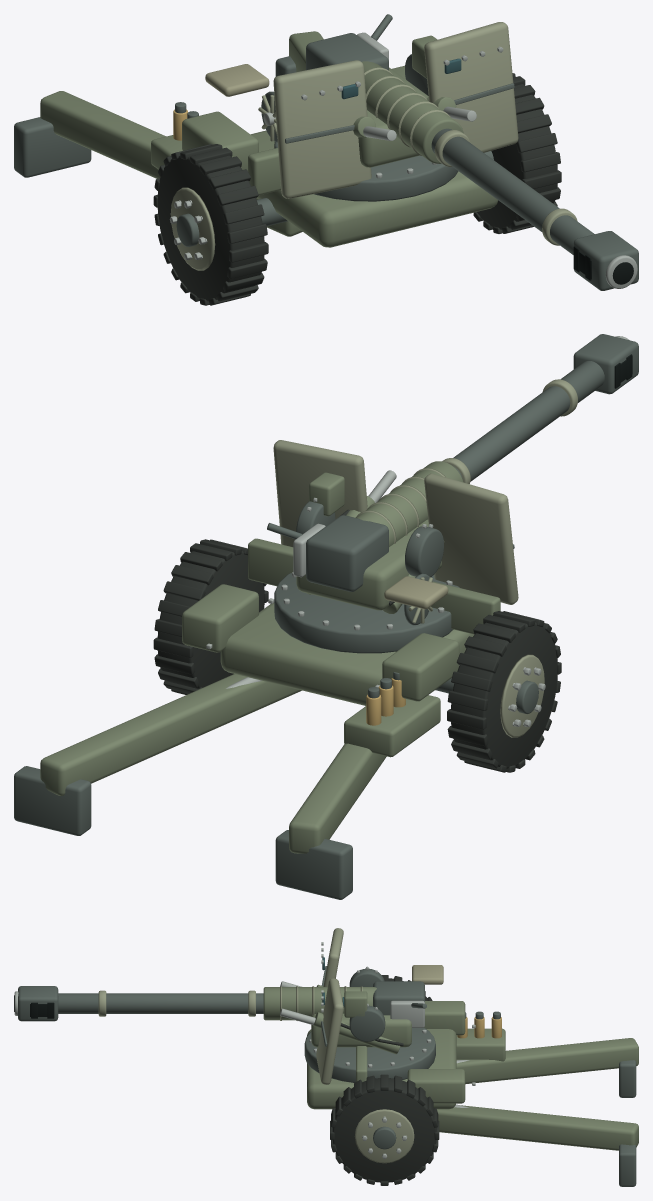
File: kestrel.glb
3 renders of one model, top to bottom at view 1: azimuth 30°, elevation 25°; view 2: azimuth 150°, elevation 25°; view 3: azimuth 270°, elevation 25°, orthographic. The views are drawn at different scales.
Parts seen in each view (by area): view 1: Kestrel_Armor_edge, Kestrel_Field_olive, Kestrel_Rubber, Kestrel_Gun_steel, RecoilAssembly_Gun_steel, Barrel sleeve, Turret_Field_olive, BarrelPivot_Gun_steel, RecoilAssembly_Armor_edge, Gunner seat, Turret_Recoil_steel, Kestrel_Recoil_steel (+4 smaller); view 2: Kestrel_Field_olive, Kestrel_Rubber, Kestrel_Gun_steel, Kestrel_Armor_edge, RecoilAssembly_Gun_steel, BarrelPivot_Gun_steel, Turret_Field_olive, Barrel sleeve, Turret_Gun_steel, RecoilAssembly_Armor_edge, Gunner seat, Kestrel_Brass (+1 smaller); view 3: Kestrel_Field_olive, Kestrel_Rubber, Kestrel_Gun_steel, RecoilAssembly_Gun_steel, Kestrel_Armor_edge, Turret_Field_olive, Barrel sleeve, Turret_Gun_steel, BarrelPivot_Gun_steel, BreechBlock, RecoilAssembly_Armor_edge, Gunner seat (+4 smaller).
Boxes of the visible parts, x1=… form: Kestrel_Armor_edge: x1=170, y1=22, x2=518, y2=270; Kestrel_Field_olive: x1=40, y1=31, x2=498, y2=247; Kestrel_Rubber: x1=153, y1=73, x2=561, y2=305; Kestrel_Gun_steel: x1=14, y1=56, x2=514, y2=246; RecoilAssembly_Gun_steel: x1=431, y1=128, x2=638, y2=290; Barrel sleeve: x1=362, y1=61, x2=463, y2=163; Turret_Field_olive: x1=353, y1=35, x2=456, y2=167; BarrelPivot_Gun_steel: x1=306, y1=14, x2=392, y2=70; RecoilAssembly_Armor_edge: x1=364, y1=67, x2=577, y2=245; Gunner seat: x1=205, y1=64, x2=269, y2=96; Turret_Recoil_steel: x1=263, y1=106, x2=476, y2=140; Kestrel_Recoil_steel: x1=169, y1=46, x2=503, y2=260; Kestrel_Field_olive: x1=40, y1=538, x2=500, y2=853; Kestrel_Rubber: x1=153, y1=539, x2=561, y2=772; Kestrel_Gun_steel: x1=14, y1=544, x2=538, y2=899; Kestrel_Armor_edge: x1=273, y1=440, x2=544, y2=737; RecoilAssembly_Gun_steel: x1=453, y1=334, x2=638, y2=481; BarrelPivot_Gun_steel: x1=267, y1=515, x2=388, y2=591; Turret_Field_olive: x1=296, y1=472, x2=444, y2=613; Barrel sleeve: x1=356, y1=461, x2=463, y2=546; Turret_Gun_steel: x1=296, y1=501, x2=443, y2=625; RecoilAssembly_Armor_edge: x1=355, y1=379, x2=577, y2=543; Gunner seat: x1=384, y1=576, x2=448, y2=609; Kestrel_Brass: x1=366, y1=678, x2=405, y2=725; Kestrel_Field_olive: x1=307, y1=1001, x2=638, y2=1150; Kestrel_Rubber: x1=330, y1=975, x2=439, y2=1185; Kestrel_Gun_steel: x1=304, y1=966, x2=636, y2=1186; RecoilAssembly_Gun_steel: x1=18, y1=986, x2=263, y2=1021; Kestrel_Armor_edge: x1=316, y1=928, x2=414, y2=1163; Turret_Field_olive: x1=311, y1=984, x2=411, y2=1054; Barrel sleeve: x1=263, y1=987, x2=376, y2=1020; Turret_Gun_steel: x1=349, y1=968, x2=385, y2=1041; BarrelPivot_Gun_steel: x1=373, y1=981, x2=426, y2=1015; BreechBlock: x1=390, y1=1000, x2=424, y2=1027; RecoilAssembly_Armor_edge: x1=98, y1=986, x2=362, y2=1020; Gunner seat: x1=412, y1=965, x2=443, y2=984.
Bounding box in the file's own units: 4.85 × 3.17 × 10.86.
